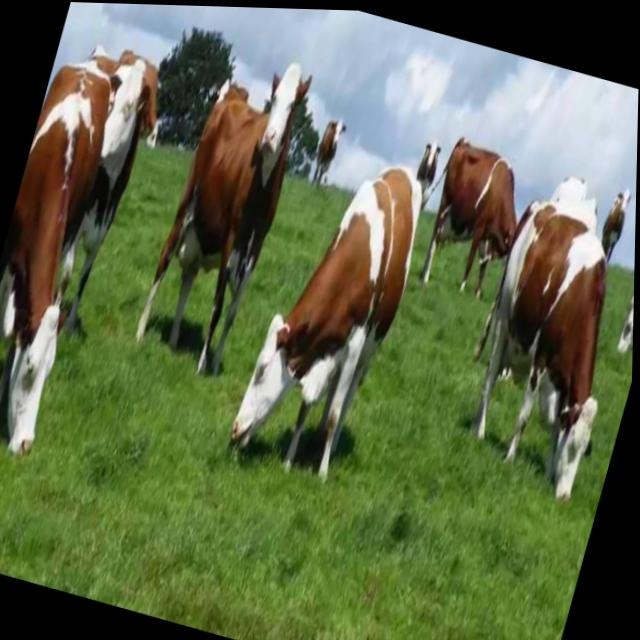cowFace: (0, 289, 83, 462), (229, 299, 313, 459), (532, 382, 609, 508), (249, 51, 318, 162), (326, 113, 349, 149), (419, 135, 443, 169), (613, 180, 636, 215)
